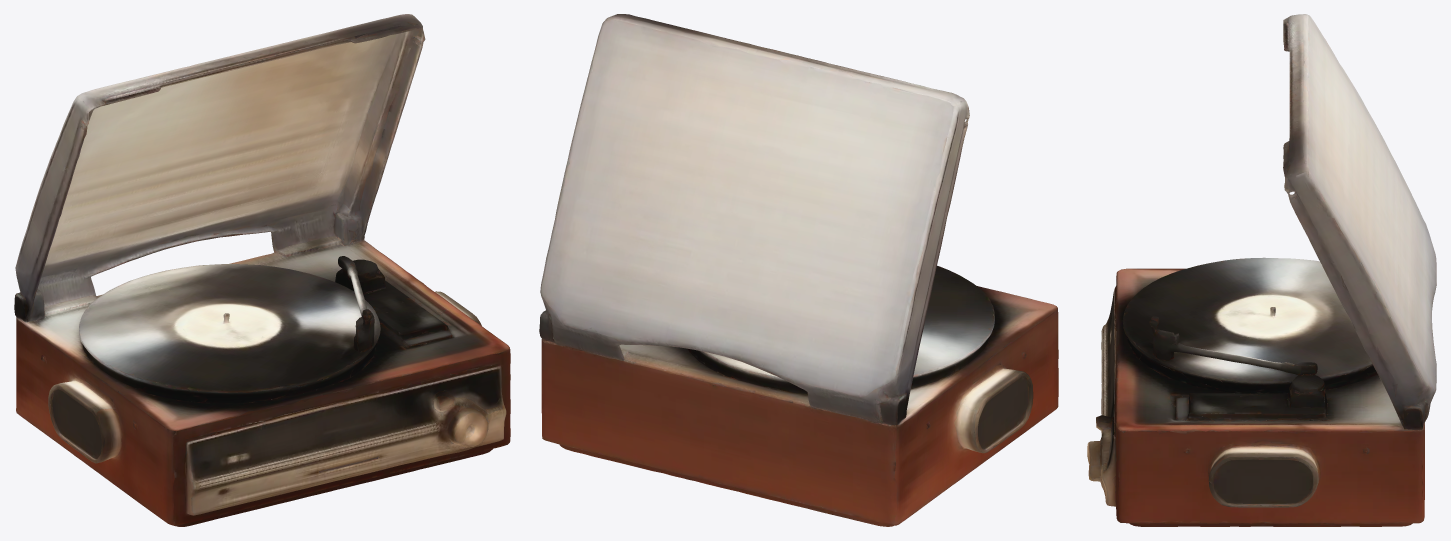
Rendered from record-player.glb.
The picture shows the model from 3 angles, left to right: view 1: azimuth 30°, elevation 25°; view 2: azimuth 150°, elevation 25°; view 3: azimuth 270°, elevation 25°; orthographic projection. The views are drawn at different scales.
Parts seen in each view (by area): view 1: Mesh; view 2: Mesh; view 3: Mesh.
Part boxes in pixels (x1,y1,x2,y2): Mesh: (14, 14, 510, 526); Mesh: (539, 14, 1058, 526); Mesh: (1087, 14, 1436, 526).
Size of the model in its own units: 1.89 by 1.75 by 1.53.
1 material, 1 textured.
